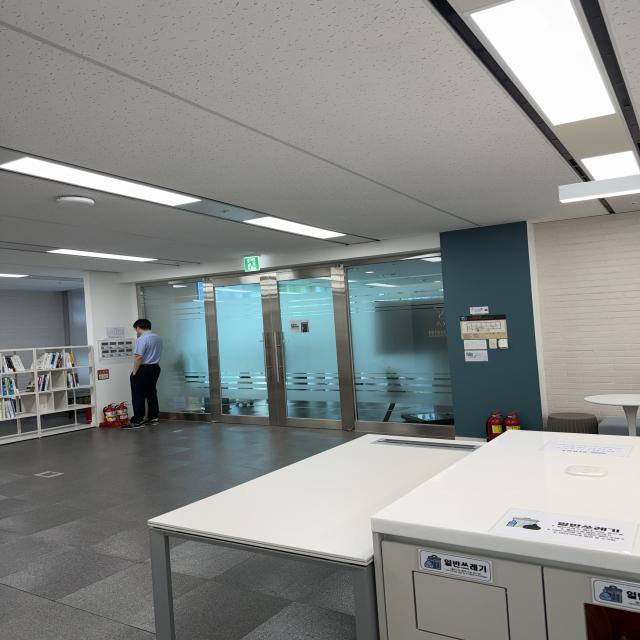front_door: (137, 252, 455, 439)
